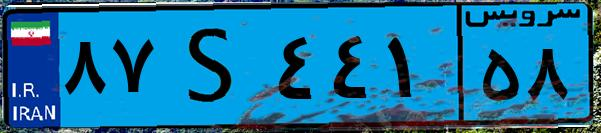1: (385, 28, 445, 110)
4: (270, 28, 330, 110), (330, 28, 385, 110)
5: (475, 38, 525, 113)
7: (110, 28, 158, 98)
8: (57, 26, 110, 100), (525, 38, 570, 115)
S: (158, 12, 270, 120)
